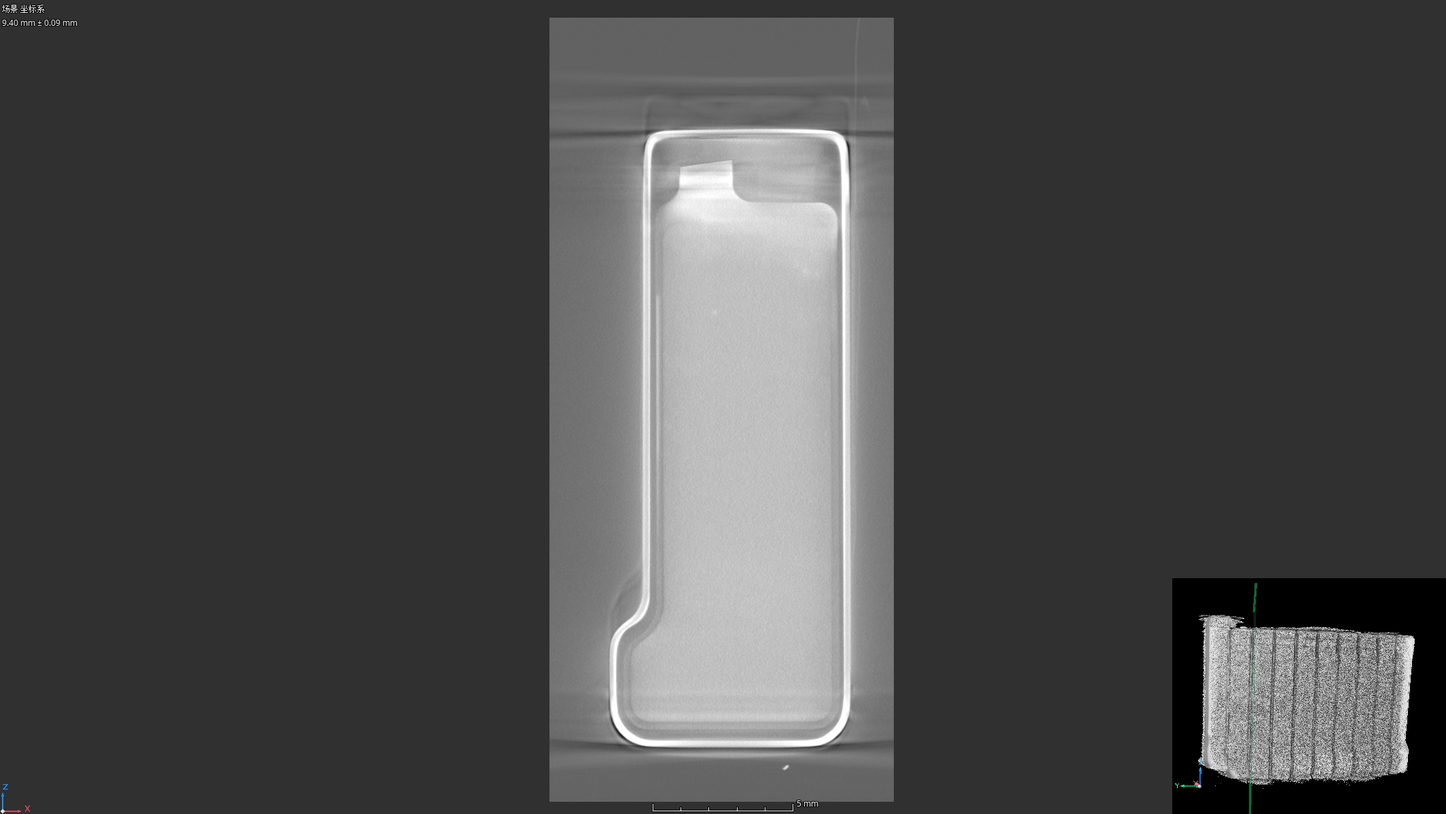light: (791, 260, 822, 282), (709, 308, 722, 324)
